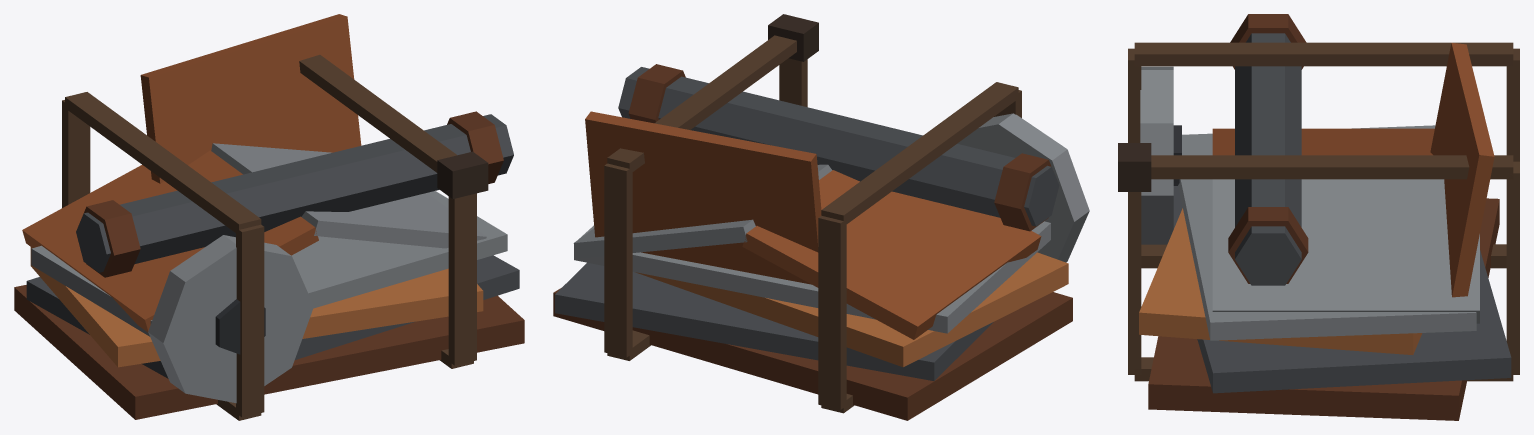
The model's file is item_scrap_bundle.fbx.
3 renders of one model, left to right at view 1: azimuth 30°, elevation 25°; view 2: azimuth 150°, elevation 25°; view 3: azimuth 270°, elevation 25°, orthographic. The views are drawn at different scales.
Visible parts, largest first — view 1: item_scrap_bundle; view 2: item_scrap_bundle; view 3: item_scrap_bundle.
Boxes of the visible parts, x1,y1,x2,y2 form: item_scrap_bundle: (14,14,524,420); item_scrap_bundle: (553,14,1089,420); item_scrap_bundle: (1118,14,1519,420).
Bounding box in the file's own units: 0.46 × 0.241 × 0.361.
